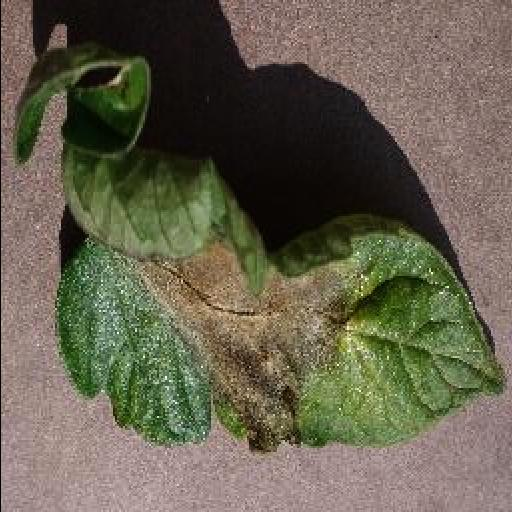disease_tomato: (51, 150, 505, 456)
